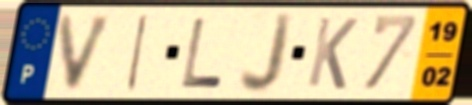7: (363, 12, 421, 95)
I: (122, 12, 152, 94)
J: (236, 10, 297, 97)
K: (303, 15, 361, 93)
L: (178, 16, 225, 91)
V: (56, 12, 119, 94)
